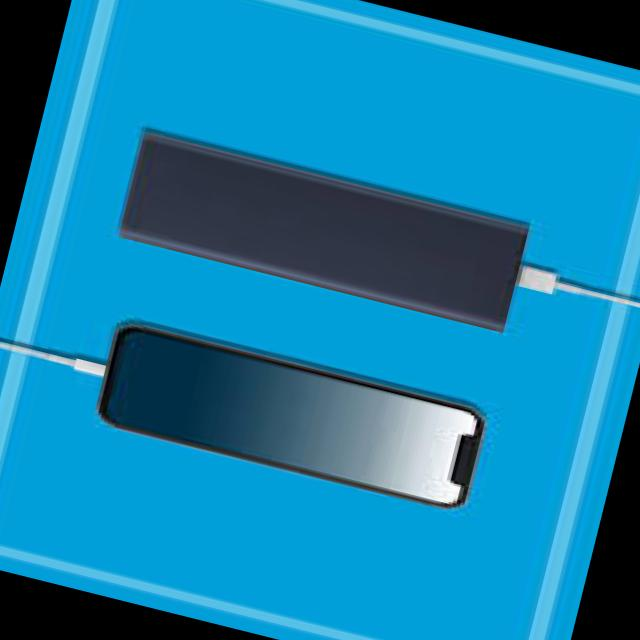portable-charger: (116, 128, 532, 332)
